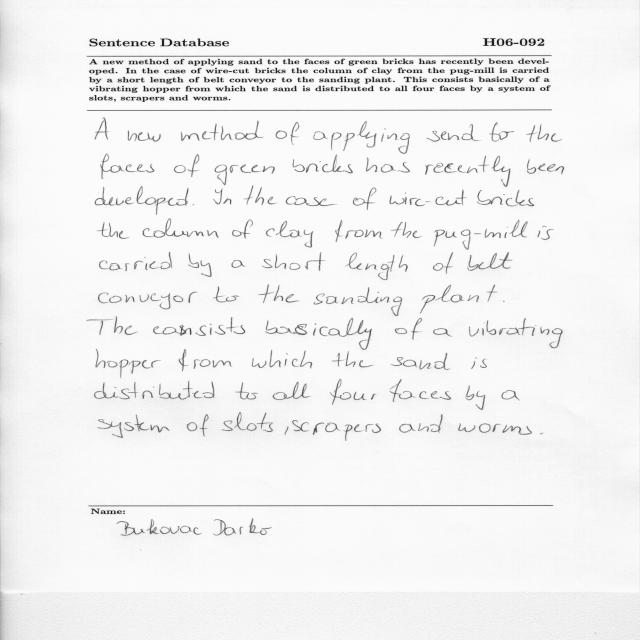word: (265, 318, 372, 350), (313, 121, 410, 154), (434, 220, 528, 250), (469, 318, 563, 348), (425, 155, 511, 187), (96, 186, 189, 215), (314, 287, 402, 316), (95, 381, 215, 400), (420, 285, 497, 313), (96, 349, 161, 379), (292, 420, 381, 441), (153, 317, 246, 336), (345, 252, 408, 280), (181, 120, 264, 141), (99, 292, 198, 309), (98, 415, 170, 438), (143, 219, 219, 238), (390, 379, 451, 402), (100, 252, 173, 271), (101, 154, 154, 179), (390, 189, 467, 206), (215, 165, 275, 186), (266, 221, 313, 247), (330, 379, 377, 405), (262, 252, 326, 271), (179, 349, 232, 371), (293, 155, 353, 174), (252, 350, 312, 369), (336, 220, 383, 242), (391, 353, 451, 370), (222, 413, 274, 432), (87, 316, 138, 335), (427, 124, 480, 142), (477, 190, 534, 206), (458, 423, 532, 435), (468, 252, 513, 271), (399, 414, 443, 433), (258, 285, 300, 303), (366, 157, 410, 173), (331, 352, 374, 368), (273, 382, 311, 400), (526, 124, 562, 142), (244, 186, 278, 205), (395, 318, 422, 340), (527, 159, 564, 175), (188, 253, 212, 277), (174, 154, 199, 177), (97, 222, 130, 239), (276, 122, 300, 145), (353, 187, 376, 210), (465, 385, 486, 410), (286, 196, 337, 206), (490, 122, 515, 142), (391, 222, 422, 238), (187, 415, 209, 437), (214, 286, 240, 303), (433, 252, 453, 274), (232, 220, 253, 239), (128, 130, 161, 142), (236, 383, 258, 400), (95, 118, 109, 140), (213, 189, 232, 205), (538, 226, 554, 240), (501, 390, 520, 401), (471, 357, 487, 369), (433, 328, 453, 337), (232, 260, 246, 268), (285, 426, 289, 435), (540, 433, 543, 434), (503, 301, 505, 302), (193, 204, 194, 205)
